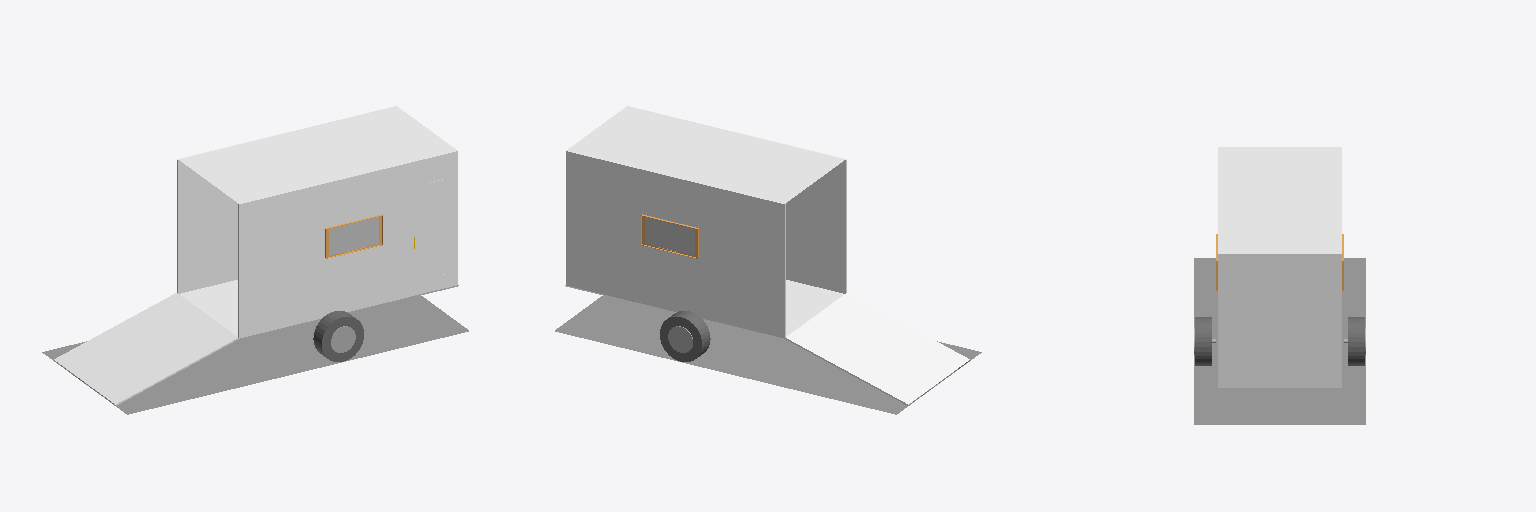
Rendered from anhaenger_aufgeklappt.obj.
3 renders of one model, left to right at view 1: azimuth 30°, elevation 25°; view 2: azimuth 150°, elevation 25°; view 3: azimuth 270°, elevation 25°, orthographic.
Parts seen in each view (by area): view 1: wall_3_16_16_17, room_4_21_21_22, ground_1, wall_1_4_4_64, wall_1_5_5_6, sweethome3d_opening_on_hinge_1_door_30_39_37, room_4_20_20_21, sweethome3d_window_pane_36_26_27, Cylinder_96_4_4_44; view 2: wall_1_4_4_5, room_4_21_21_22, ground_1, wall_1_4_4_64, wall_3_17_17_18, room_4_20_20_21, sweethome3d_window_pane_39_29_30, Cylinder_96_4_4_54; view 3: wall_2_10_10_11, room_4_21_21_22, ground_1, Cylinder_32_3_3_43, Cylinder_32_3_3_53.
Part boxes in pixels (x1,y1,x2,y2): wall_3_16_16_17: (238,151,457,338); room_4_21_21_22: (180,107,455,203); ground_1: (42,296,468,414); wall_1_4_4_64: (54,293,238,404); wall_1_5_5_6: (178,160,237,293); sweethome3d_opening_on_hinge_1_door_30_39_37: (412,179,443,295); room_4_20_20_21: (180,280,237,336); sweethome3d_window_pane_36_26_27: (329,217,378,255); Cylinder_96_4_4_44: (322,317,363,361); wall_1_4_4_5: (566,151,785,338); room_4_21_21_22: (568,107,843,203); ground_1: (555,296,981,414); wall_1_4_4_64: (785,293,969,404); wall_3_17_17_18: (786,160,845,293); room_4_20_20_21: (786,280,843,336); sweethome3d_window_pane_39_29_30: (645,217,694,255); Cylinder_96_4_4_54: (660,317,701,361); wall_2_10_10_11: (1218,254,1341,387); room_4_21_21_22: (1220,147,1339,252); ground_1: (1194,258,1365,424); Cylinder_32_3_3_43: (1195,317,1211,365); Cylinder_32_3_3_53: (1348,317,1364,365).
Bounding box in the file's own units: 481 × 230 × 208.